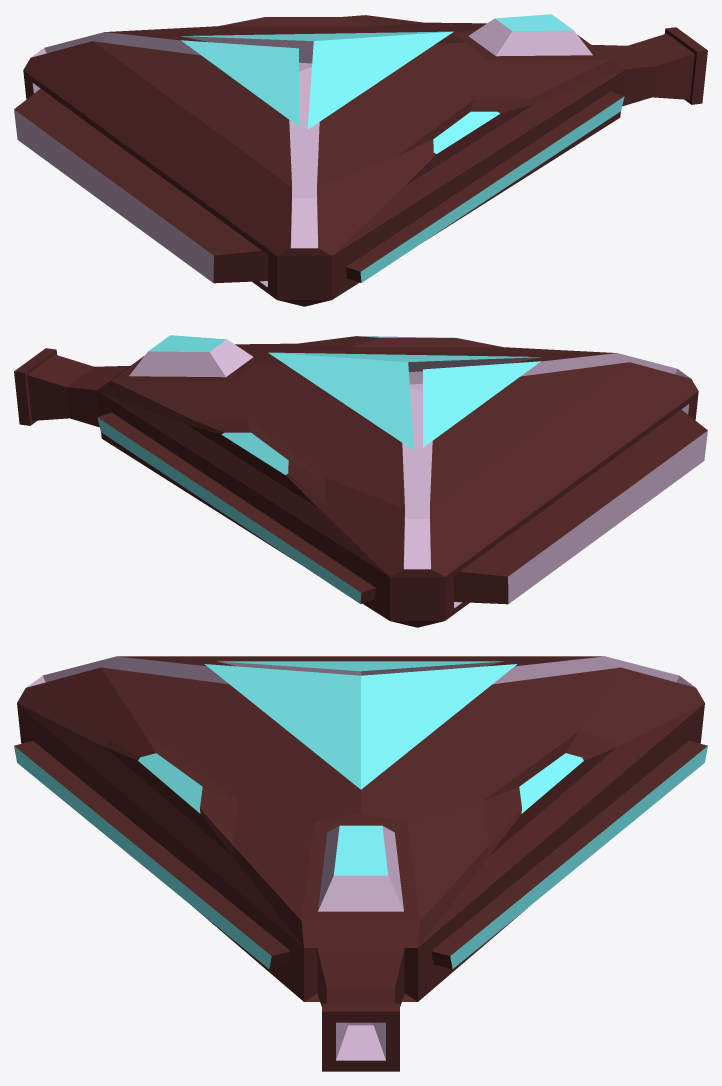
The model's file is Player.fbx.
The picture shows the model from 3 angles, top to bottom: view 1: azimuth 30°, elevation 25°; view 2: azimuth 150°, elevation 25°; view 3: azimuth 270°, elevation 25°; orthographic projection. The views are drawn at different scales.
Parts seen in each view (by area): view 1: PlayerModel; view 2: PlayerModel; view 3: PlayerModel.
Boxes of the visible parts, x1,y1,x2,y2 form: PlayerModel: (14, 14, 707, 306); PlayerModel: (14, 335, 707, 627); PlayerModel: (14, 656, 707, 1071).
Bounding box in the file's own units: 19.81 × 5.64 × 16.84.
